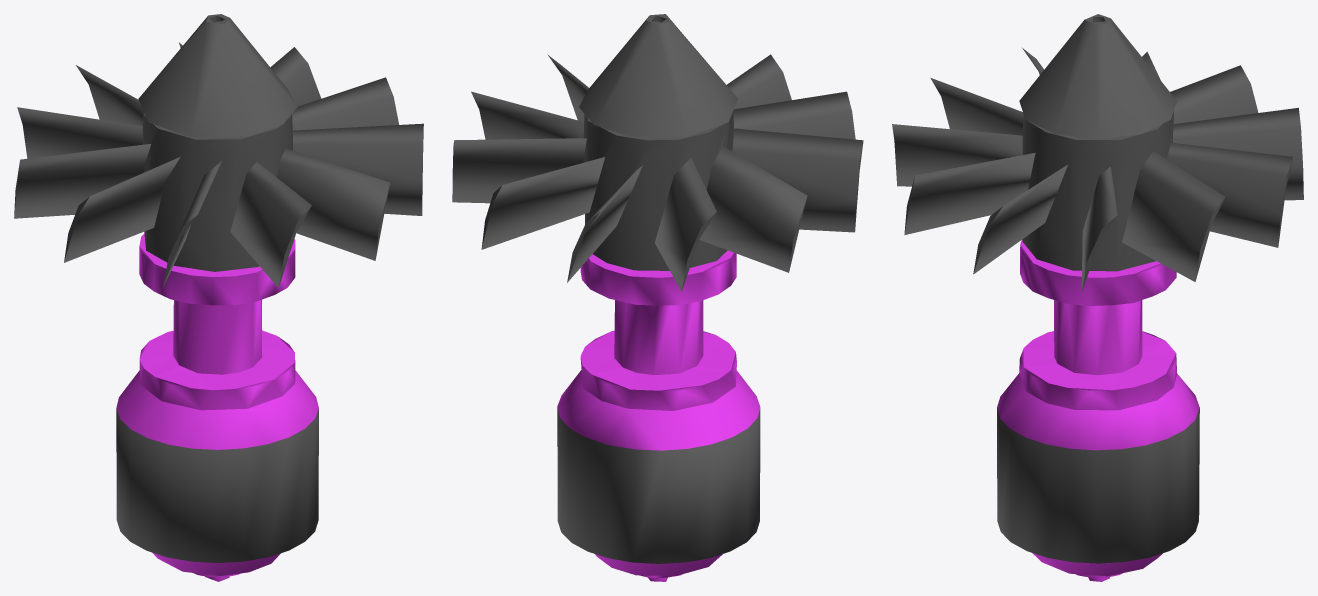
File: edf_impeler.dae
3 views of the same model, side by side, from view 1: azimuth 30°, elevation 25°; view 2: azimuth 150°, elevation 25°; view 3: azimuth 270°, elevation 25° (orthographic).
Visible parts, largest first — view 1: edf_impeler; view 2: edf_impeler; view 3: edf_impeler.
Part boxes in pixels (x1,y1,x2,y2): edf_impeler: (14, 14, 423, 581); edf_impeler: (452, 14, 863, 581); edf_impeler: (892, 14, 1303, 581).
Size of the model in its own units: 0.0515 by 0.0521 by 0.0778.
